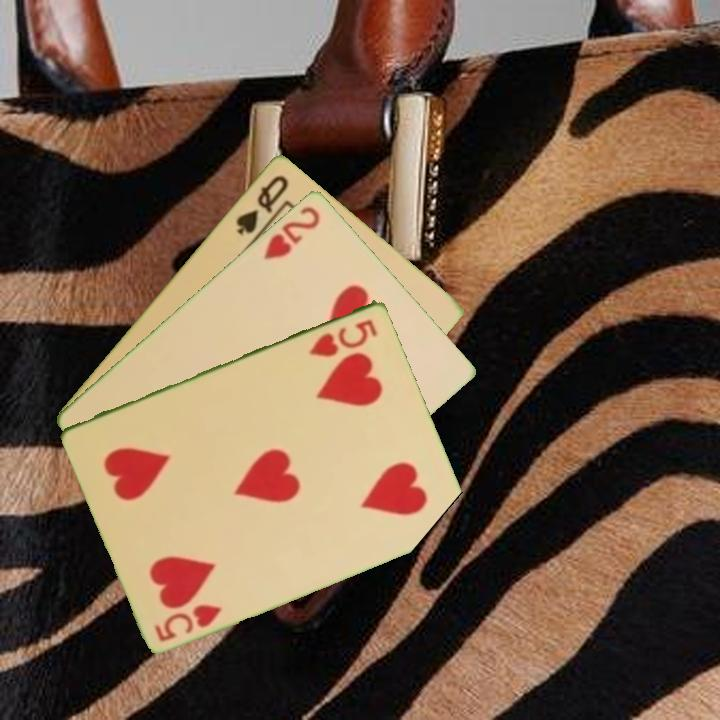2h: (260, 202, 323, 263)
5h: (305, 315, 381, 360), (151, 600, 225, 644)
Qs: (232, 170, 292, 238)
